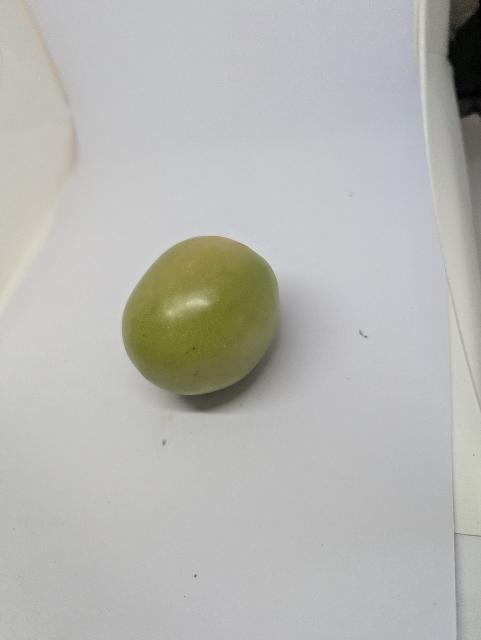green: (101, 214, 304, 419)
